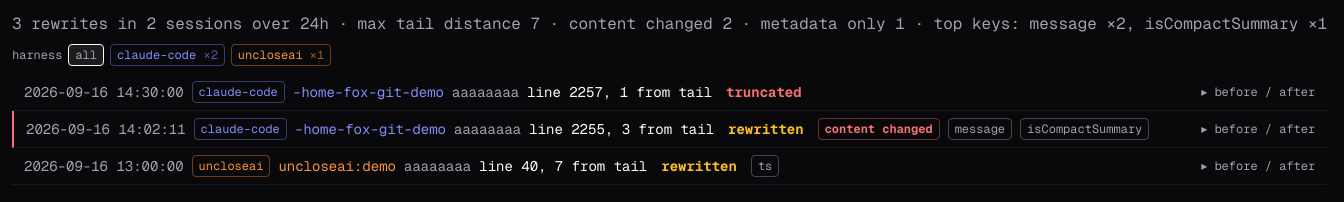
Test: RewritesTab › filters rows by harness chip and asks the API for that harness
Expected: the element with test id "harness-filter" shows "claude-code", left=110, top=44, right=225, bottom=66
Click the button "uncloseai ×1": (281, 55) left=231, top=44, right=331, bottom=66
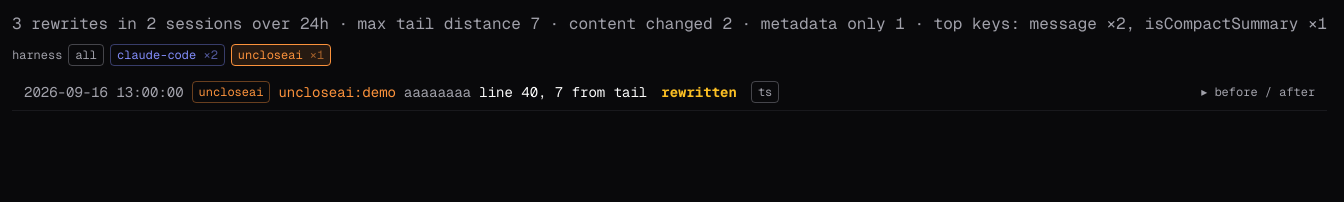
Expected: the element with test id "rewrite-row" shows "uncloseai:demo", left=12, top=74, right=1327, bottom=110
Result: the number of elements with test id "rewrite-row" is 1 at left=12, top=74, right=1327, bottom=111
Same chip again clears it.
Click the button "uncloseai ×1": (281, 55) left=231, top=44, right=331, bottom=66
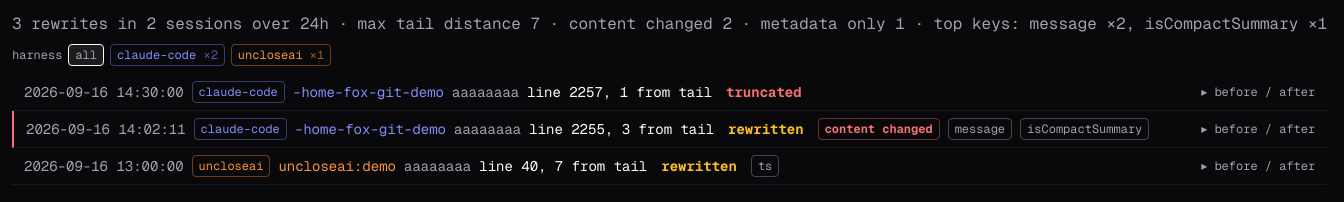
Result: the number of elements with test id "rewrite-row" is 3 at left=12, top=74, right=1327, bottom=111; left=12, top=111, right=1327, bottom=148; left=12, top=148, right=1327, bottom=185
